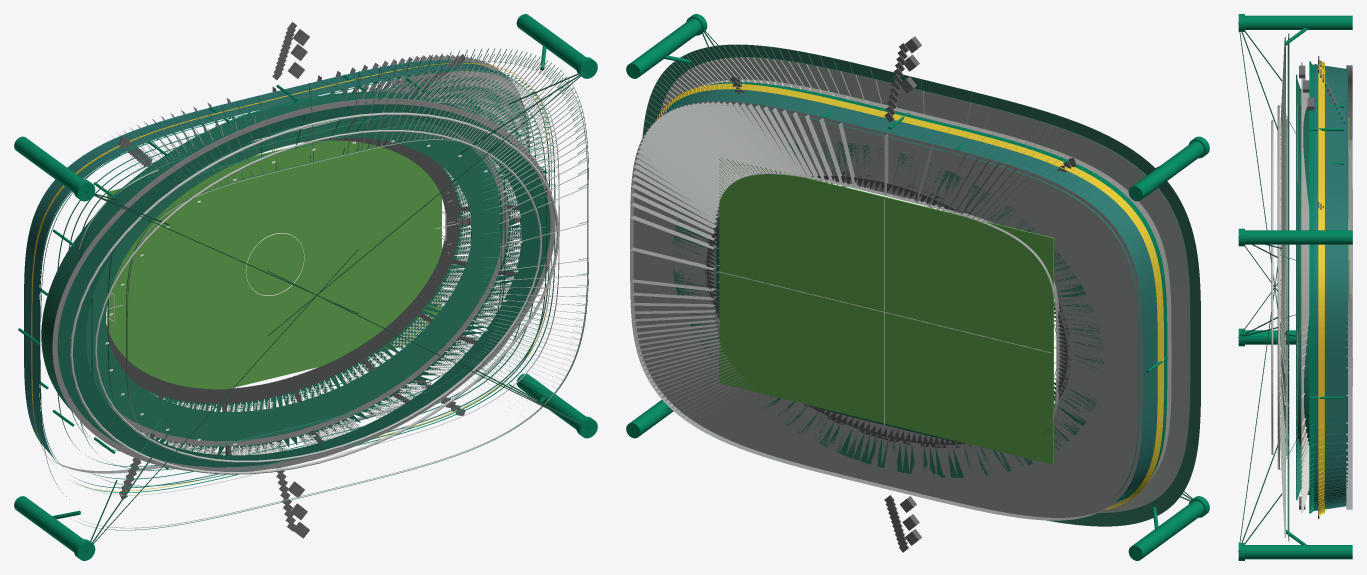
Rendered from alvalade.glb.
3 renders of one model, left to right at view 1: azimuth 30°, elevation 25°; view 2: azimuth 150°, elevation 25°; view 3: azimuth 270°, elevation 25°, orthographic. The views are drawn at different scales.
Visible parts, largest first — view 1: football_pitch, upper_bowl, lower_bowl, outer_glass_facade, main_roof, upper_concourse, dark_pitch_apron, stadium_plinth, white_upper_fascia, upper_blocks, mid_concourse, pitch_perimeter (+14 smaller); view 2: stadium_plinth, football_pitch, main_roof, outer_roof_truss, outer_glass_facade, lower_bowl, yellow_facade_band, white_upper_fascia, dark_pitch_apron, upper_facade_band, mast_1, mast_4 (+3 smaller); view 3: outer_glass_facade, yellow_facade_band, white_upper_fascia, upper_facade_band, main_roof, stadium_plinth, upper_bowl, mast_3, mast_2, mast_4, upper_tier_3, outer_roof_truss (+7 smaller).
Part boxes in pixels (x1,y1,x2,y2): football_pitch: (107,140,441,402); upper_bowl: (41,91,550,467); lower_bowl: (86,108,503,441); outer_glass_facade: (24,60,549,488); main_roof: (74,53,587,528); upper_concourse: (52,98,555,471); dark_pitch_apron: (106,137,454,398); stadium_plinth: (51,54,529,473); white_upper_fascia: (79,72,559,495); upper_blocks: (139,155,521,455); mid_concourse: (106,128,508,446); pitch_perimeter: (118,144,460,403); stadium_plinth: (630,101,1142,520); football_pitch: (719,157,1053,464); main_roof: (659,57,1189,512); outer_roof_truss: (642,44,1200,526); outer_glass_facade: (670,89,1157,498); lower_bowl: (673,141,1103,477); yellow_facade_band: (656,83,1163,509); white_upper_fascia: (697,79,1171,481); dark_pitch_apron: (706,175,1068,444); upper_facade_band: (665,82,1167,502); mast_1: (1128,500,1204,560); mast_4: (1128,141,1204,201); outer_glass_facade: (1314,64,1347,510); yellow_facade_band: (1318,59,1324,515); white_upper_fascia: (1301,62,1309,512); upper_facade_band: (1309,61,1314,513); main_roof: (1280,37,1285,537); stadium_plinth: (1346,65,1352,509); upper_bowl: (1298,105,1309,448); mast_3: (1245,230,1352,244); mast_2: (1245,545,1352,559); mast_4: (1245,15,1352,29); upper_tier_3: (1296,74,1301,500); outer_roof_truss: (1287,33,1289,541).
Bounding box in the file's own units: 176 × 153 × 35.69.
